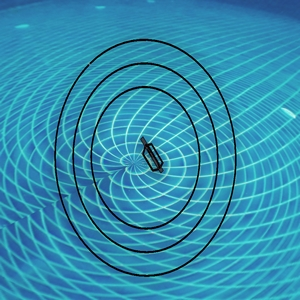circle: (34, 28, 264, 284)
submarine: (143, 141, 163, 171)
